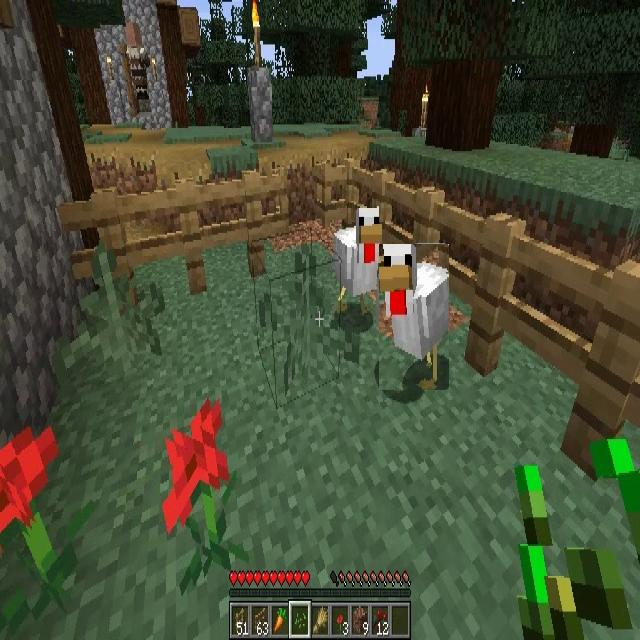duck: (379, 244, 449, 390), (334, 205, 378, 318)
